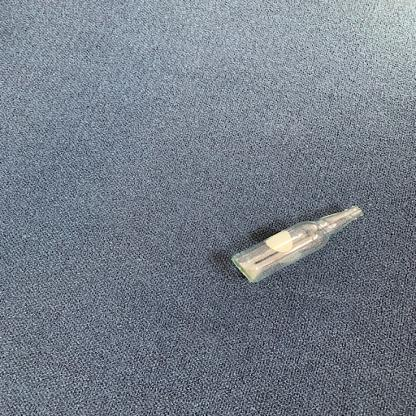trash: (229, 203, 368, 284)
